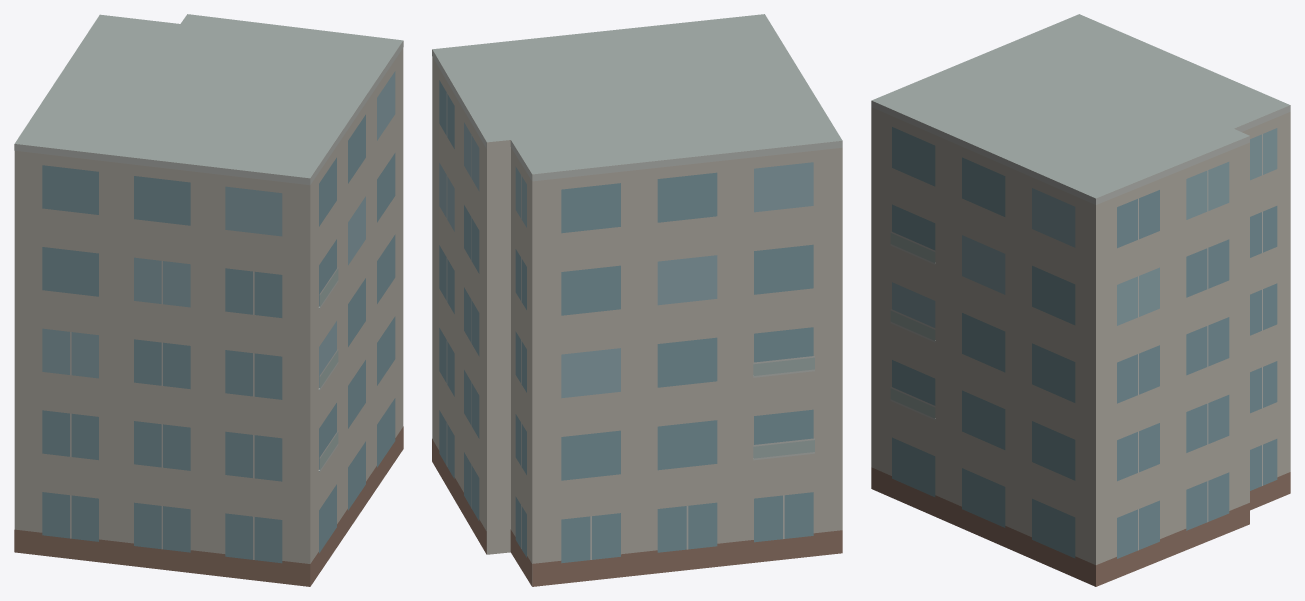
File: survey-upis-32700176.glb
3 views of the same model, side by side, from view 1: azimuth 30°, elevation 25°; view 2: azimuth 150°, elevation 25°; view 3: azimuth 270°, elevation 25° (orthographic). The views are drawn at different scales.
Visible parts, largest first — view 1: survey-upis-32700176.tmp; view 2: survey-upis-32700176.tmp; view 3: survey-upis-32700176.tmp.
Boxes of the visible parts, x1,y1,x2,y2 form: survey-upis-32700176.tmp: (14, 14, 403, 586); survey-upis-32700176.tmp: (432, 14, 842, 586); survey-upis-32700176.tmp: (871, 14, 1290, 586).
Size of the model in its own units: 14.68 by 14.4 by 14.09.
